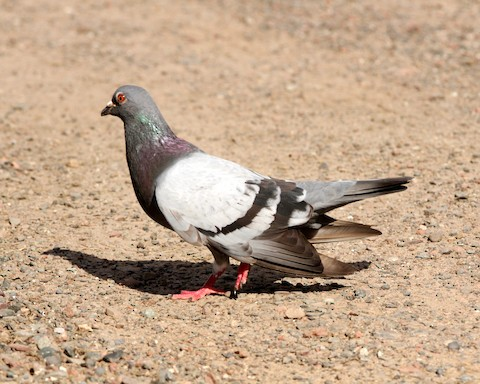pigeon: (99, 84, 414, 305)
